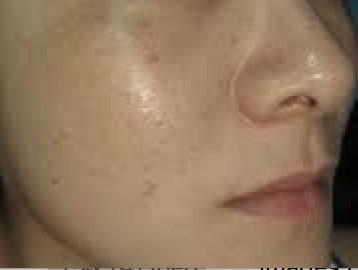fore: (131, 48, 159, 65)
